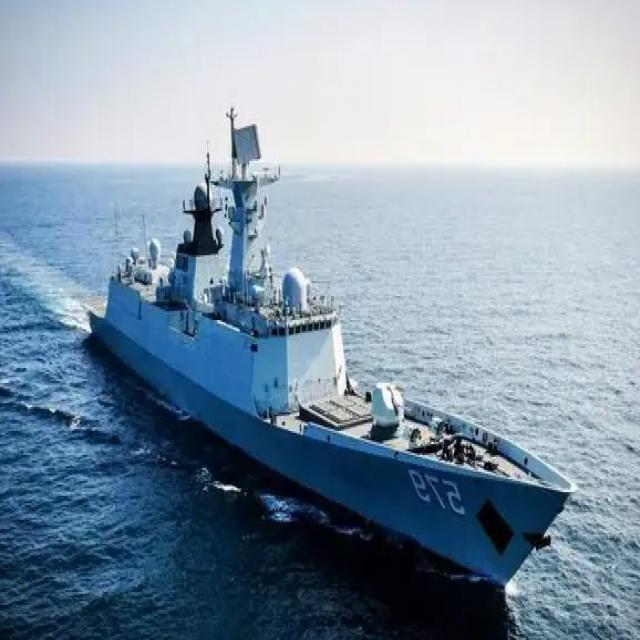navalvessels: (68, 92, 571, 591)
